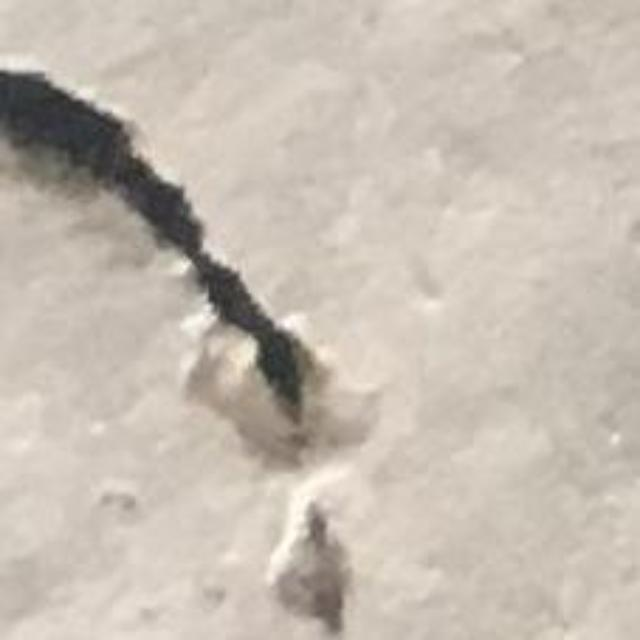crack: (0, 68, 377, 634)
